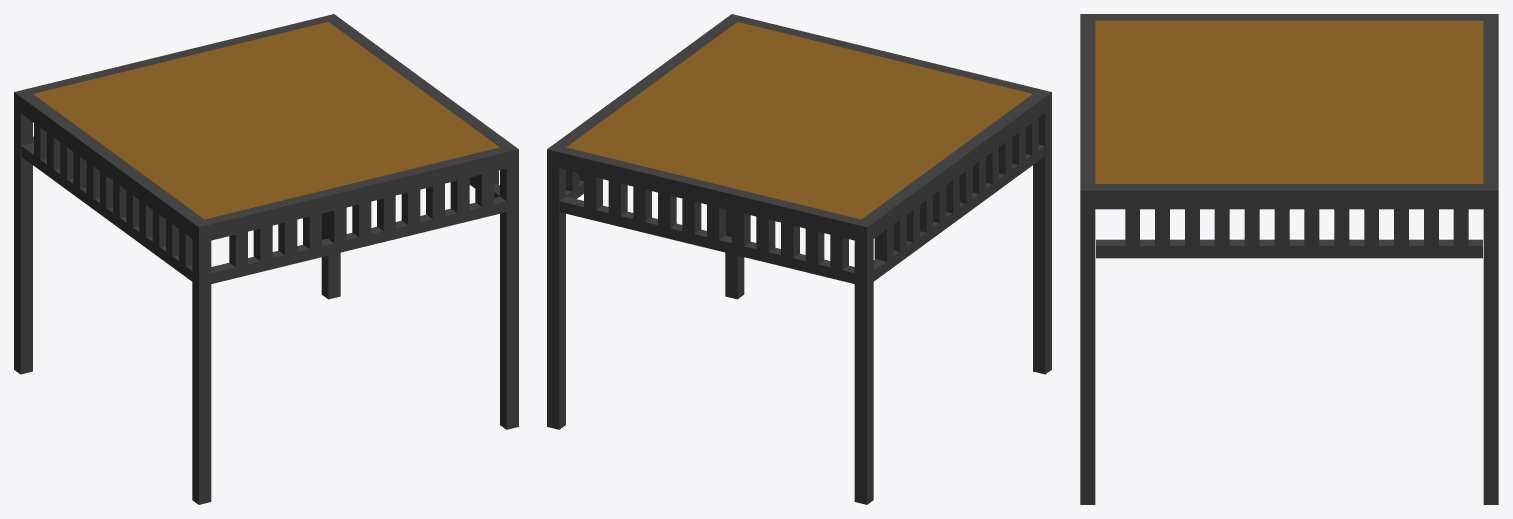
Rendered from CPI441_Fur_Nightstand1_V1.fbx.
The picture shows the model from 3 angles, left to right: view 1: azimuth 30°, elevation 25°; view 2: azimuth 150°, elevation 25°; view 3: azimuth 270°, elevation 25°; orthographic projection. The views are drawn at different scales.
Visible parts, largest first — view 1: Cube; view 2: Cube; view 3: Cube.
Part boxes in pixels (x1,y1,x2,y2): Cube: (14,14,518,504); Cube: (547,14,1051,504); Cube: (1080,14,1498,504).
Bounding box in the file's own units: 317 × 263 × 317.
